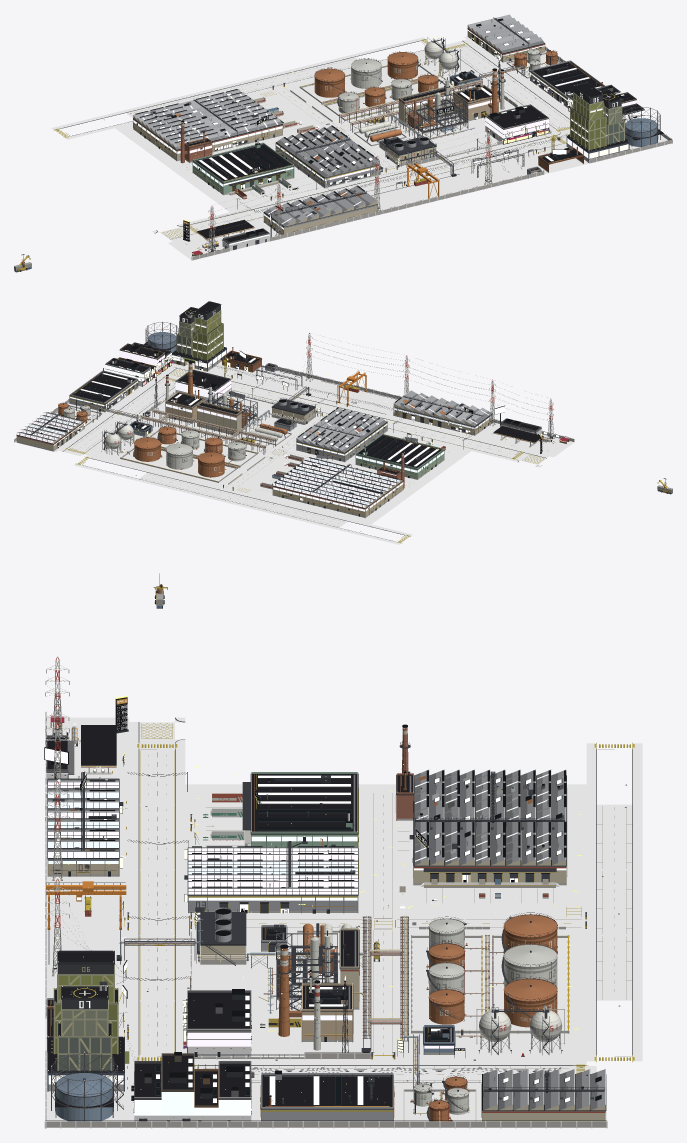
File: world-high-santo.glb
The picture shows the model from 3 angles, top to bottom: view 1: azimuth 30°, elevation 25°; view 2: azimuth 150°, elevation 25°; view 3: azimuth 270°, elevation 25°; orthographic projection. The views are drawn at different scales.
Parts seen in each view (by area): view 1: santo_corrugated, santo_sidewalk, santo_asphalt, santo_steel, santo_tankplate, santo_roof, santo_metal, santo_trim, santo_castconcrete, santo_dark_detail, santo_facade, santo_steel_detail (+12 smaller); view 2: santo_sidewalk, santo_corrugated, santo_asphalt, santo_steel, santo_facade, santo_tankplate, santo_roof, santo_trim, santo_metal, santo_dark_detail, santo_castconcrete, santo_steel_detail (+7 smaller); view 3: santo_sidewalk, santo_asphalt, santo_corrugated, santo_roof, santo_tankplate, santo_steel, santo_facade, santo_metal, santo_dark_detail, santo_trim, santo_castconcrete, santo_metal_detail (+15 smaller).
Part boxes in pixels (x1,y1,x2,y2): santo_corrugated: (133, 15, 623, 234); santo_sidewalk: (51, 36, 668, 241); santo_asphalt: (126, 41, 569, 260); santo_steel: (133, 38, 660, 251); santo_tankplate: (180, 41, 658, 247); santo_roof: (186, 61, 663, 242); santo_metal: (133, 18, 633, 254); santo_trim: (55, 14, 644, 256); santo_castconcrete: (133, 36, 671, 260); santo_dark_detail: (135, 18, 671, 255); santo_facade: (133, 30, 644, 245); santo_steel_detail: (167, 19, 628, 249); santo_sidewalk: (15, 361, 548, 544); santo_corrugated: (16, 311, 492, 516); santo_asphalt: (63, 368, 573, 527); santo_steel: (58, 305, 554, 517); santo_facade: (16, 324, 539, 511); santo_tankplate: (58, 332, 550, 488); santo_roof: (71, 302, 543, 473); santo_trim: (17, 310, 569, 543); santo_metal: (16, 301, 566, 510); santo_dark_detail: (22, 345, 566, 506); santo_castconcrete: (14, 315, 573, 517); santo_steel_detail: (36, 333, 553, 492); santo_sidewalk: (45, 717, 642, 1127); santo_asphalt: (45, 717, 632, 1082); santo_corrugated: (47, 770, 605, 1121); santo_roof: (47, 725, 453, 1107); santo_tankplate: (55, 726, 562, 1121); santo_steel: (46, 659, 586, 1121); santo_facade: (46, 773, 566, 1115); santo_metal: (46, 722, 606, 1114); santo_dark_detail: (45, 692, 606, 1120); santo_trim: (45, 669, 632, 1107); santo_castconcrete: (45, 712, 606, 1127); santo_metal_detail: (45, 738, 626, 1121).
Bounding box in the file's own units: 497 × 49.04 × 235.
